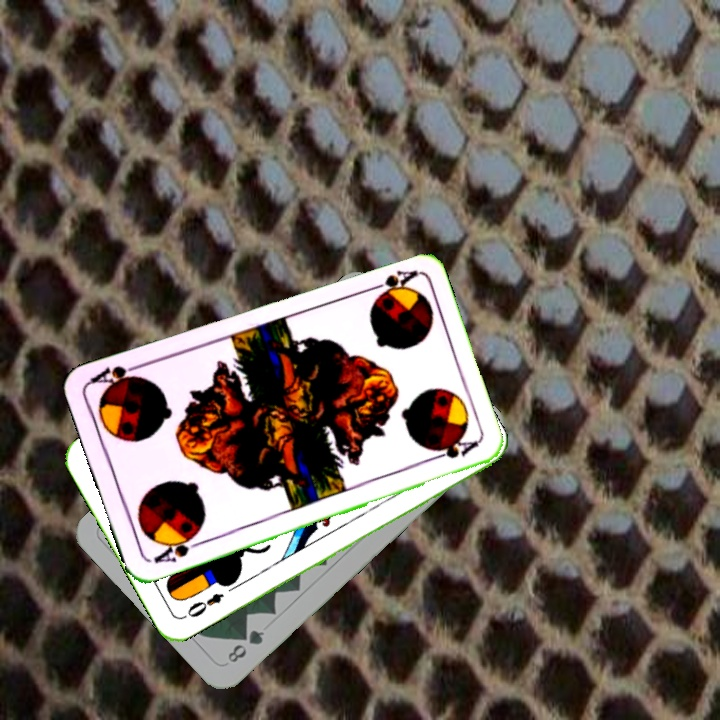EO: (179, 589, 227, 621)
G8: (223, 625, 267, 666)
SA: (149, 528, 205, 567), (362, 265, 419, 298)
